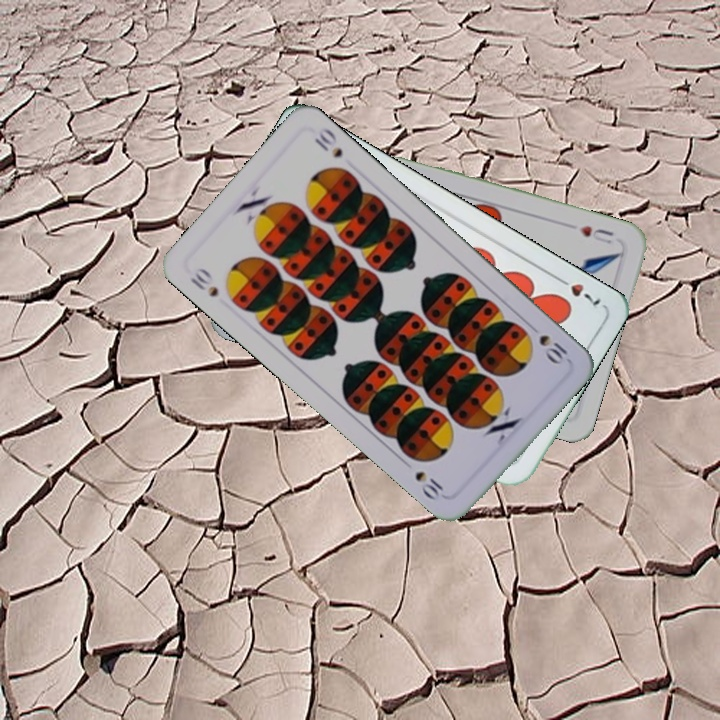H7: (551, 272, 603, 308)
HU: (576, 221, 617, 247)
S10: (524, 319, 570, 367), (185, 263, 221, 300)
